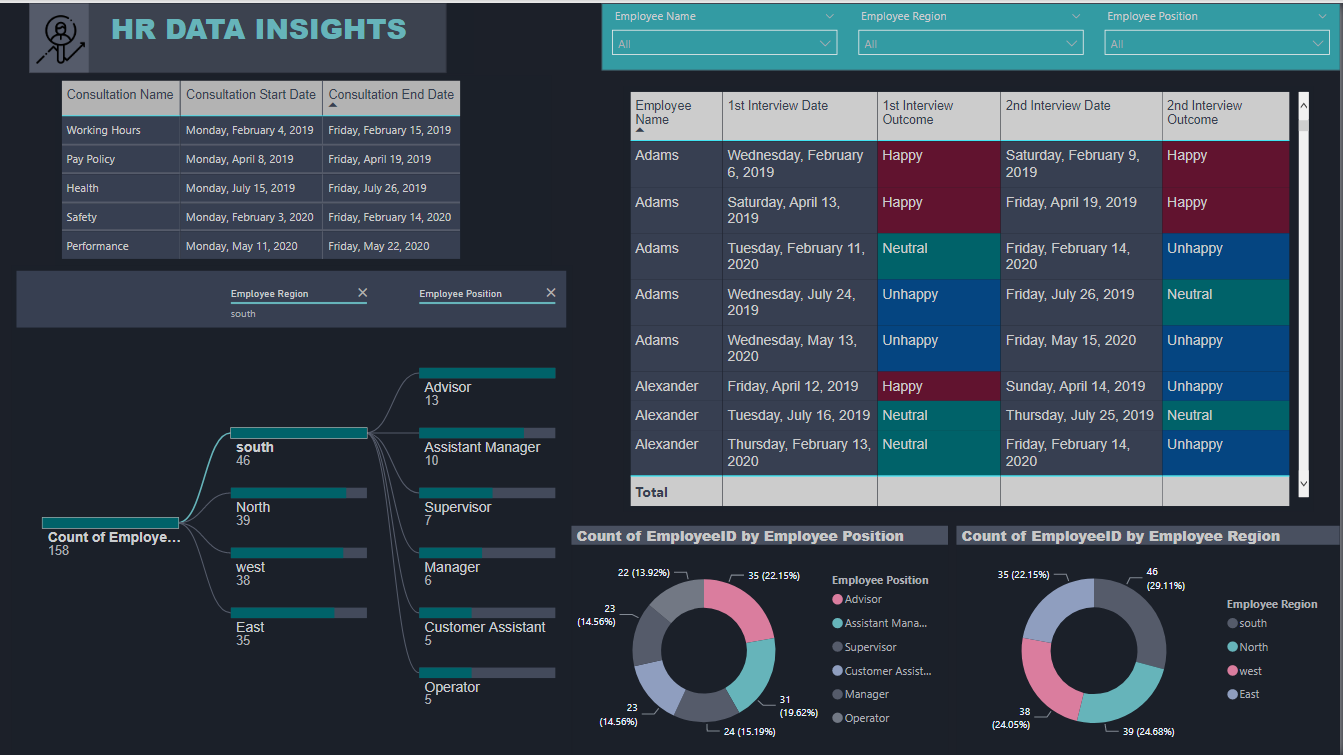

Layout of this report page (visuals, bound fields, positions):
{"tool":"powerbi","page":{"name":"1","canvas":[1280,720],"ordinal":0},"visuals":[{"type":"shape","box":[573.8,0,706.2,64.9],"z":0},{"type":"shape","box":[28,0,399.5,67.4],"z":1000},{"type":"decompositionTreeVisual","fields":{"Analyze":["CountNonNull(Employee.EmployeeID)"],"ExplainBy":["Employee.Employee Region","Employee.Employee Position"]},"box":[10.2,250.7,535.7,469.5],"z":2000},{"type":"tableEx","fields":{"Values":["Consulation.Consultation Name","Consulation.Consultation Start Date","Consulation.Consultation End Date"]},"box":[52.2,68.7,474.6,181.9],"z":3000},{"type":"tableEx","fields":{"Values":["Employee.Employee Name","interview.1st Interview Date","interview.1st Interview Outcome","interview.2nd Interview Date","interview.2nd Interview Outcome"]},"box":[595.5,80.2,659.1,405.9],"z":4000},{"type":"slicer","fields":{"Values":["Employee.Employee Position"]},"box":[1044.6,0,235.4,64.9],"z":5000},{"type":"slicer","fields":{"Values":["Employee.Employee Region"]},"box":[809.2,0,235.4,64.9],"z":6000},{"type":"slicer","fields":{"Values":["Employee.Employee Name"]},"box":[574.3,0,235.2,64.5],"z":7000},{"type":"donutChart","fields":{"Category":["Employee.Employee Position"],"Y":["CountNonNull(Employee.EmployeeID)"]},"box":[545.8,498.8,360.1,221.4],"z":8000},{"type":"donutChart","fields":{"Category":["Employee.Employee Region"],"Y":["CountNonNull(Employee.EmployeeID)"]},"box":[913.6,498.8,366.4,221.4],"z":9000},{"type":"textbox","box":[85.2,0,367.7,67.4],"z":10000},{"type":"image","box":[29.3,1.3,56,67.4],"z":11000}]}

Visuals, with their boxes in screenshot pixels (x1, y1, x2, y2), scaled from the page's 1280x720 canvas onto the 1343x755 screenshot:
shape: locate(602, 0, 1342, 68)
shape: locate(29, 0, 449, 71)
decompositionTreeVisual - CountNonNull(Employee.EmployeeID) x Employee.Employee Region: locate(11, 263, 573, 754)
tableEx - Consulation.Consultation Name x Consulation.Consultation Start Date: locate(55, 72, 553, 263)
tableEx - Employee.Employee Name x interview.1st Interview Date: locate(625, 84, 1316, 510)
slicer - Employee.Employee Position: locate(1096, 0, 1342, 68)
slicer - Employee.Employee Region: locate(849, 0, 1096, 68)
slicer - Employee.Employee Name: locate(603, 0, 849, 68)
donutChart - Employee.Employee Position x CountNonNull(Employee.EmployeeID): locate(573, 523, 950, 754)
donutChart - Employee.Employee Region x CountNonNull(Employee.EmployeeID): locate(959, 523, 1342, 754)
textbox: locate(89, 0, 475, 71)
image: locate(31, 1, 89, 72)
